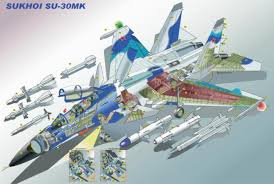ten_lua: (117, 110, 173, 143), (150, 112, 203, 146), (54, 58, 110, 77)
